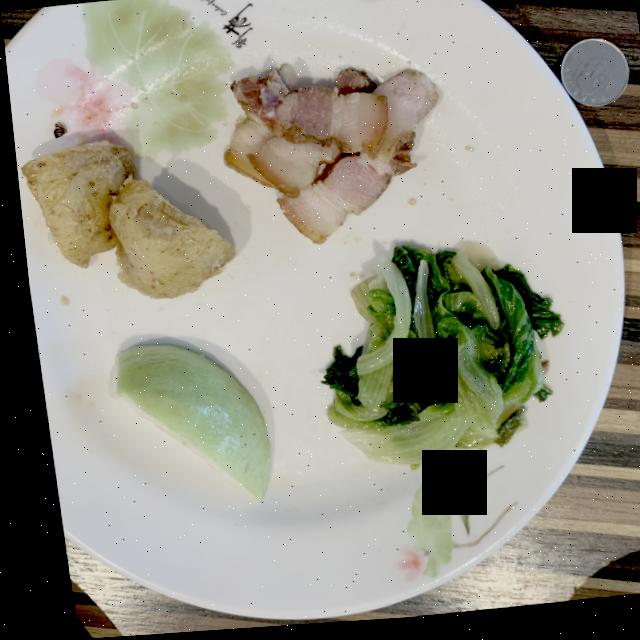coin: (556, 46, 625, 115)
fried potato: (16, 142, 228, 300)
grilled pork: (219, 68, 434, 248)
guava -sliced-: (99, 345, 260, 504)
mustard greens: (312, 250, 555, 470)
